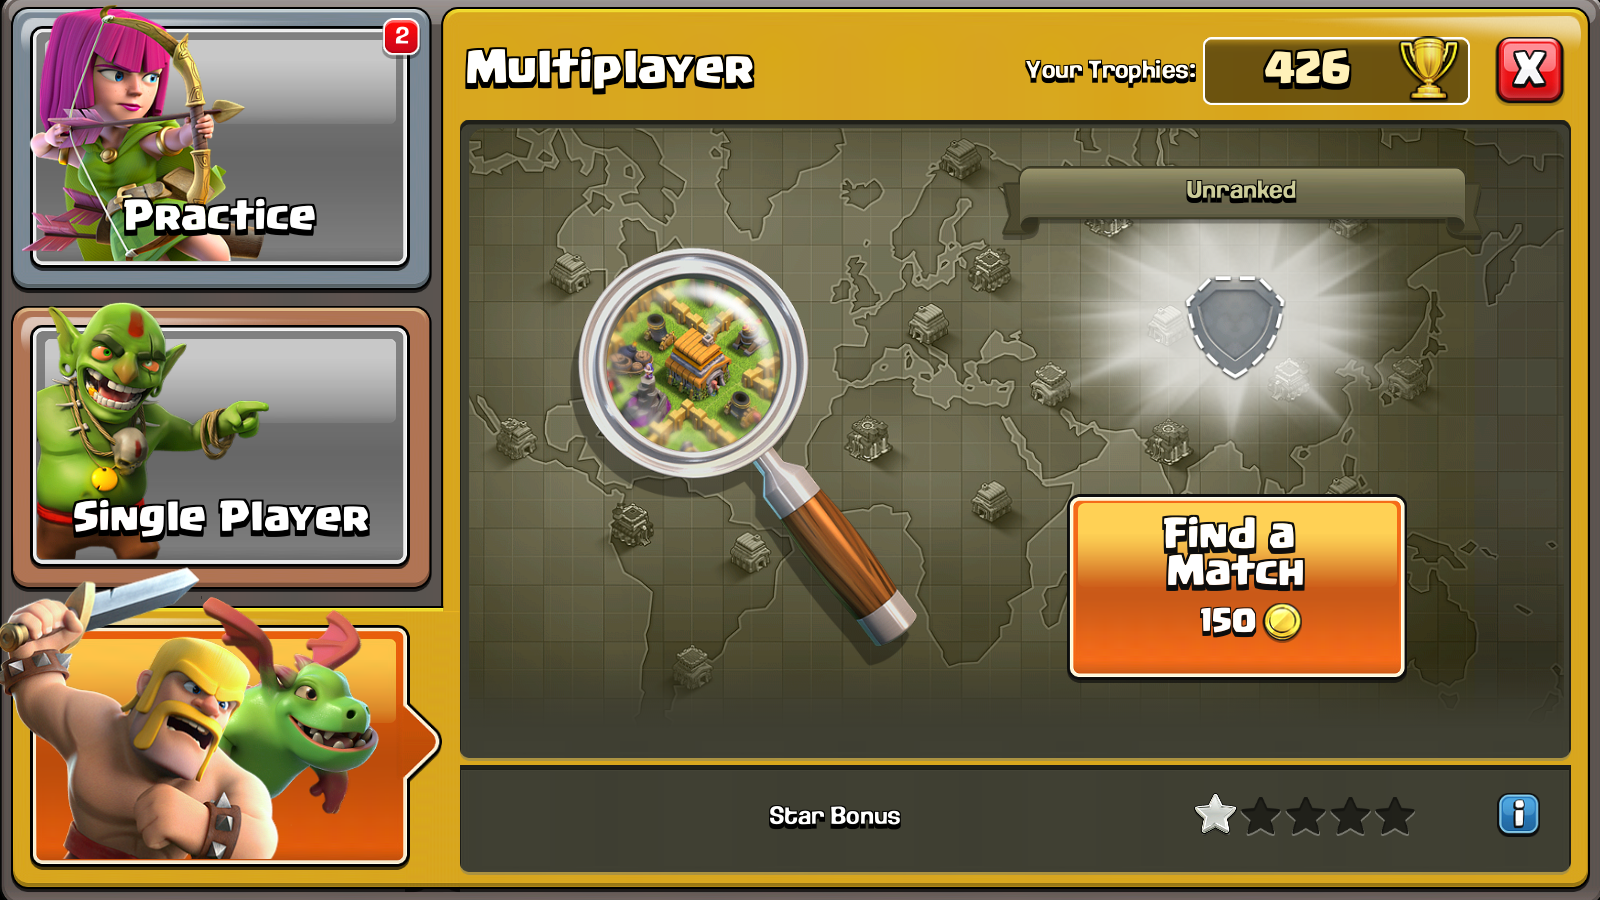close: (1495, 42, 1567, 100)
find_a_match_button: (1069, 496, 1404, 676), (1095, 513, 1386, 596)
multiplayer_battle: (19, 611, 425, 864), (48, 638, 405, 843)
